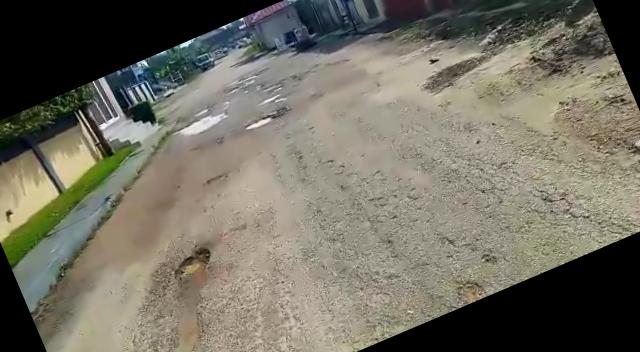pothole: (175, 106, 230, 140), (170, 246, 215, 284), (240, 110, 283, 136), (258, 92, 282, 107)
